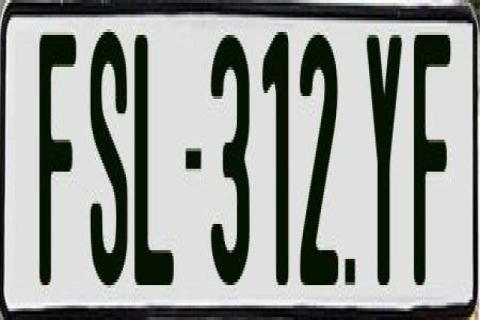0: (297, 32, 340, 294), (210, 26, 254, 276), (261, 29, 292, 288)
F: (38, 27, 76, 286), (414, 29, 452, 285)
L: (134, 29, 176, 279)
S: (88, 32, 132, 291)
Y: (366, 29, 404, 297)
